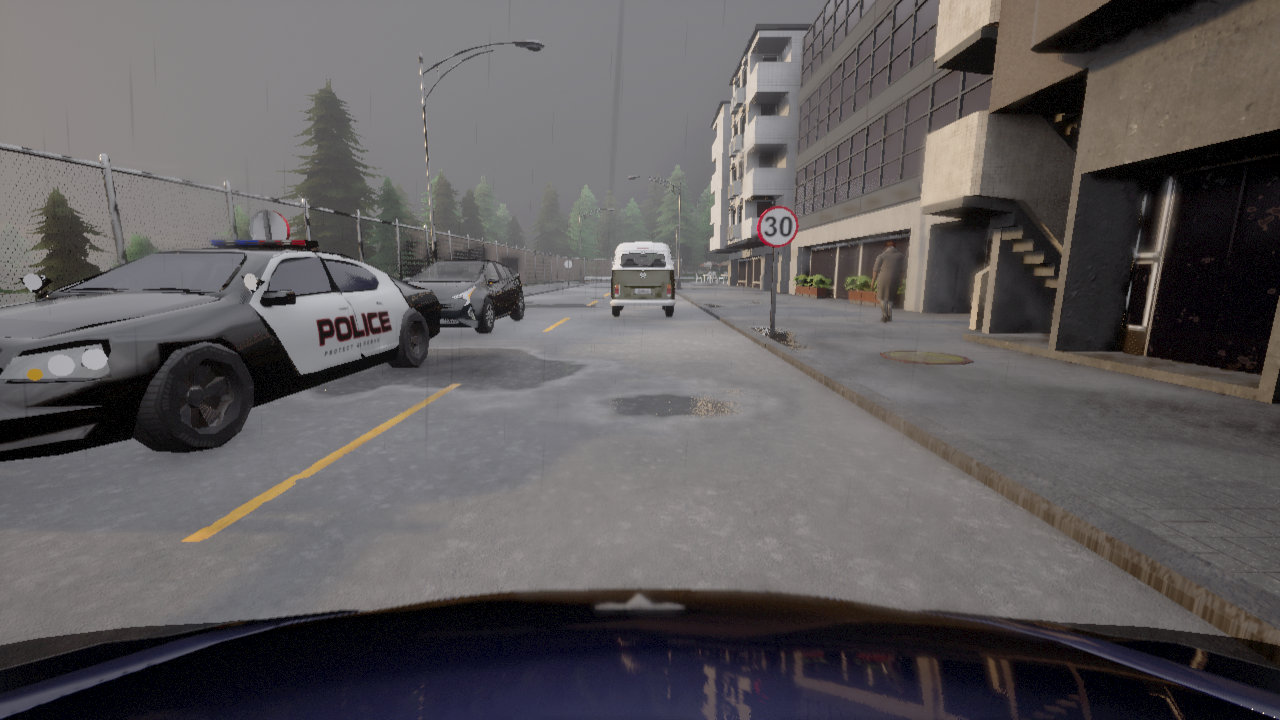cyclist: (0, 588, 1279, 719), (0, 239, 440, 461), (401, 259, 524, 333), (610, 242, 675, 316)
pedestrian: (871, 241, 906, 321), (311, 247, 318, 250)
